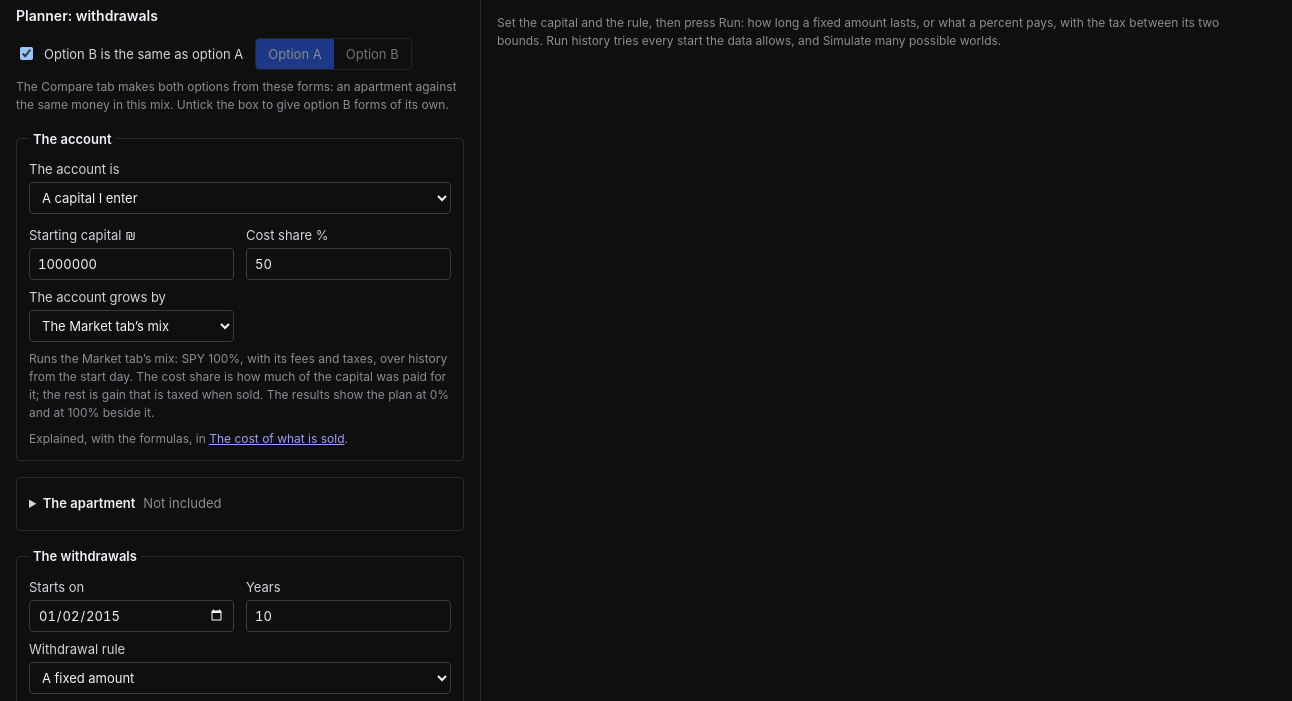
Test: PlannerWithdraw › includes an apartment the owner keeps, and shows it in what is left
Expected: the number field labelled "Value today ₪" is not shown
Click the text "The apartment" at (89, 503), box top-left (43, 495), bottom-right (135, 511)
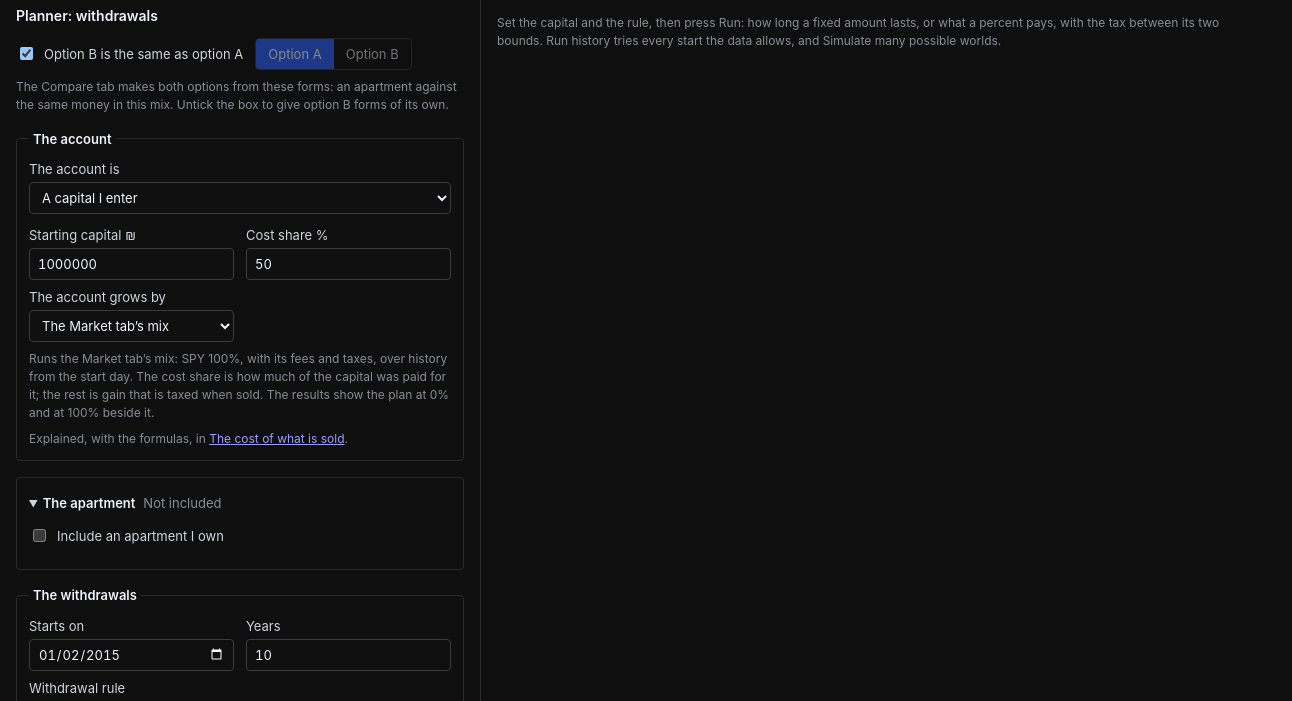
Click the checkbox labelled "Include an apartment I own" at (40, 536), box top-left (33, 529), bottom-right (46, 542)
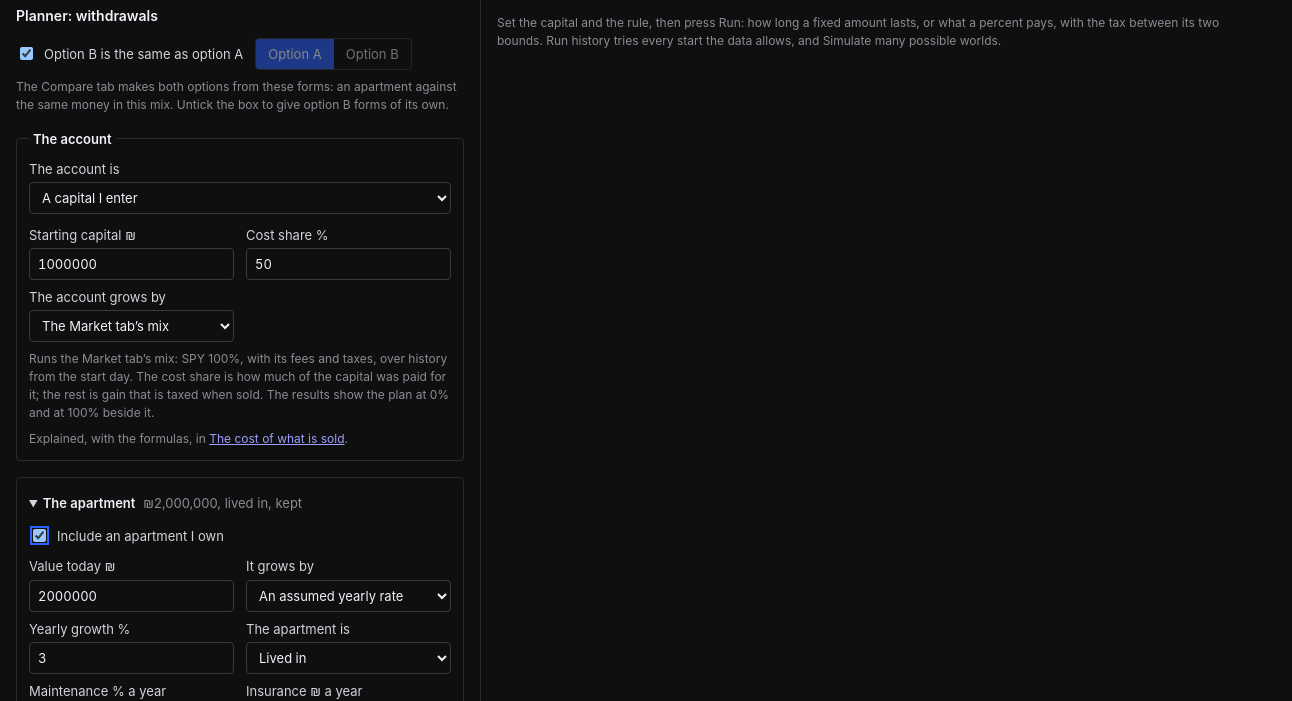
Expected: the number field labelled "Rent ₪ a month" is not shown
Expected: the number field labelled "Value today ₪" is shown, top-left (29, 580), bottom-right (234, 612)
Select "Rented out" in the dropdown labelled "The apartment is" at (348, 658), box top-left (246, 642), bottom-right (451, 674)
(page scrolled)
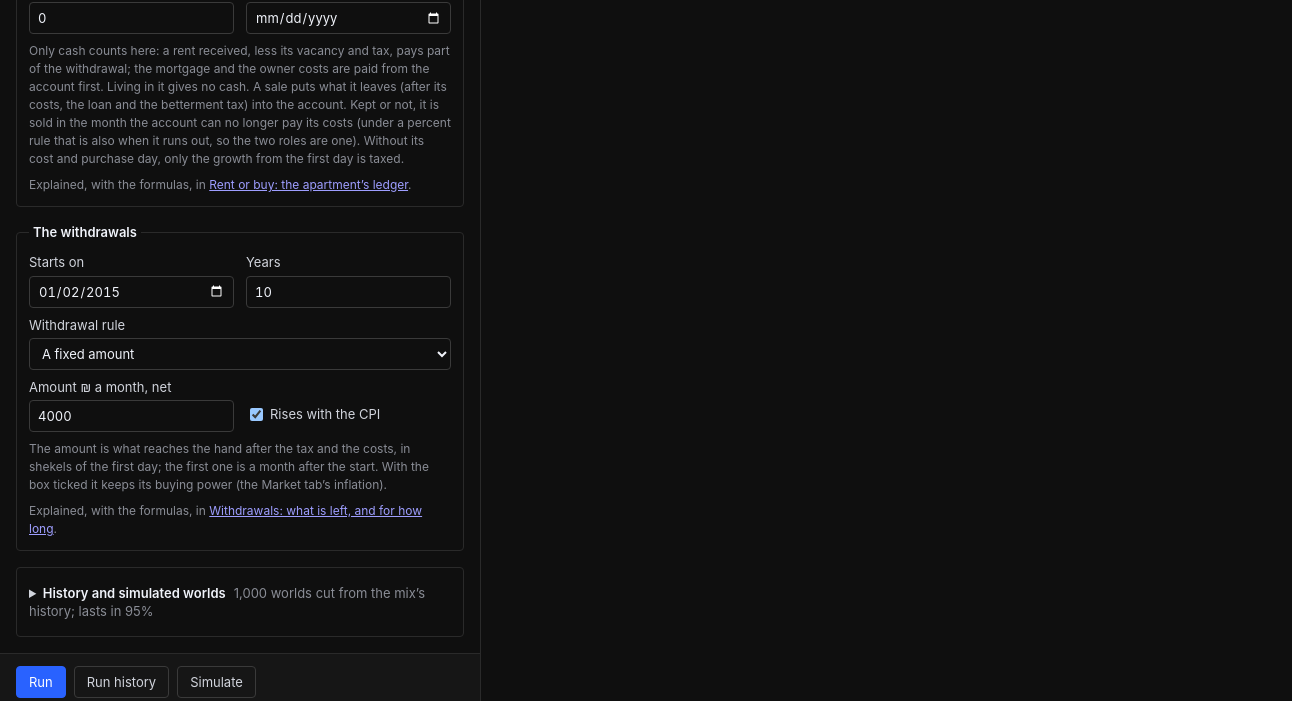
Click the button "Run" at (41, 682), box top-left (16, 666), bottom-right (66, 698)
(page scrolled)
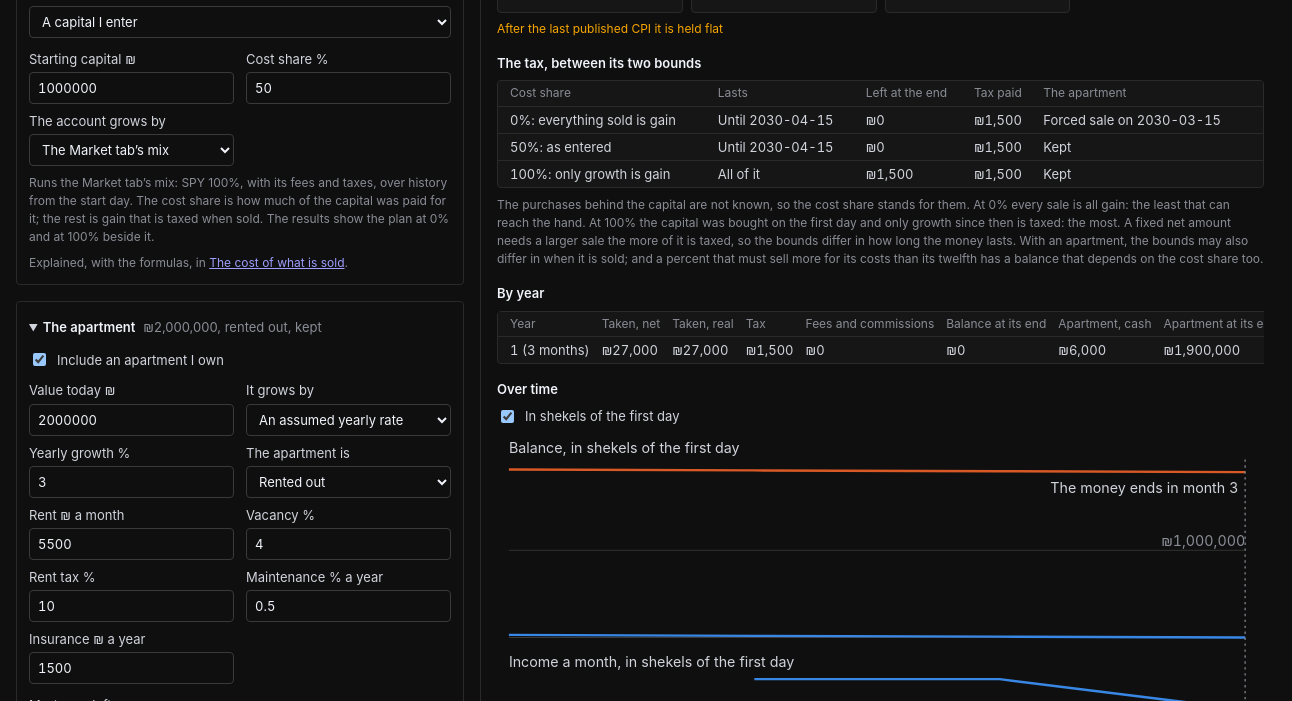
Expected: the text "Forced sale on 2030-03-15" is shown, top-left (1043, 107), bottom-right (1263, 134)
Expected: the column heading "Apartment, cash" is shown, top-left (1058, 312), bottom-right (1164, 337)
Expected: the text "₪6,000" is shown, top-left (1058, 337), bottom-right (1164, 364)
